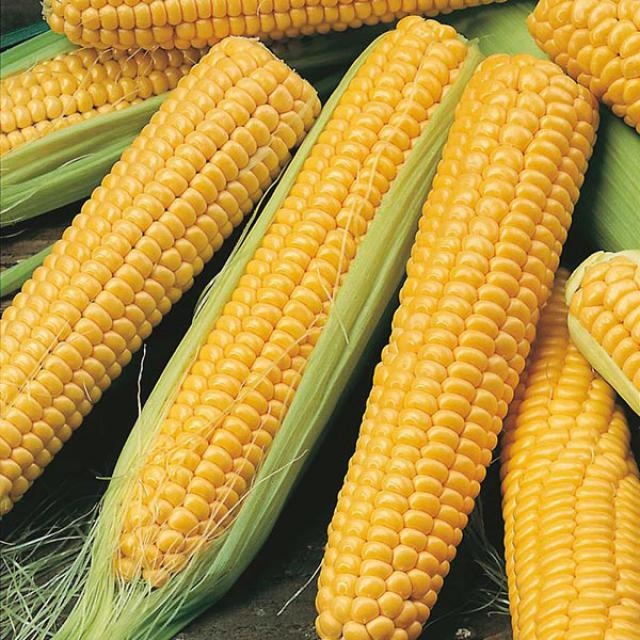corn: (83, 13, 494, 635), (304, 39, 610, 640), (0, 22, 324, 534), (497, 258, 640, 639)
